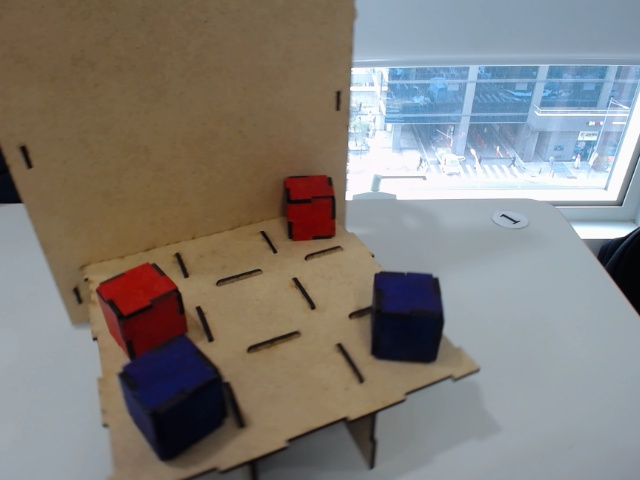blue: (117, 336, 230, 460), (370, 268, 446, 364)
red: (95, 263, 186, 361), (281, 173, 338, 242)
